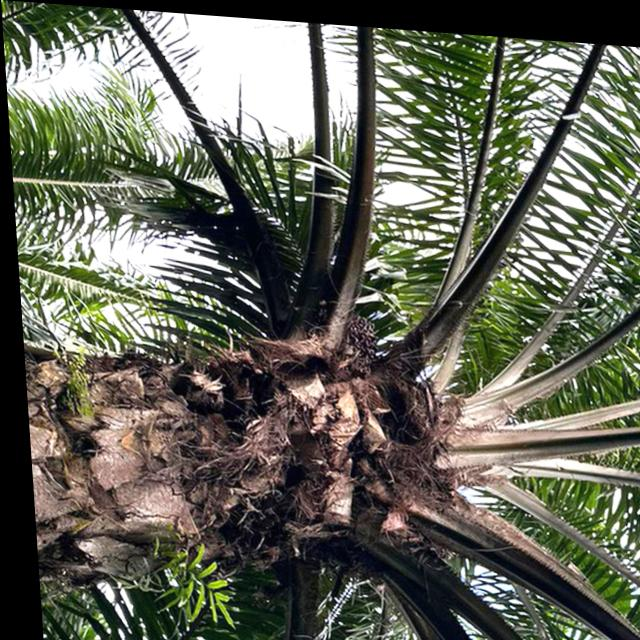ripe: (335, 309, 380, 361)
